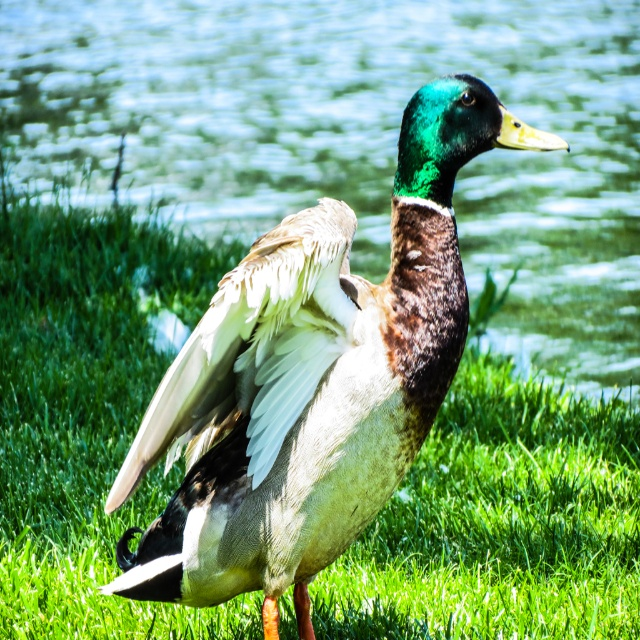Duck: (90, 67, 574, 639)
